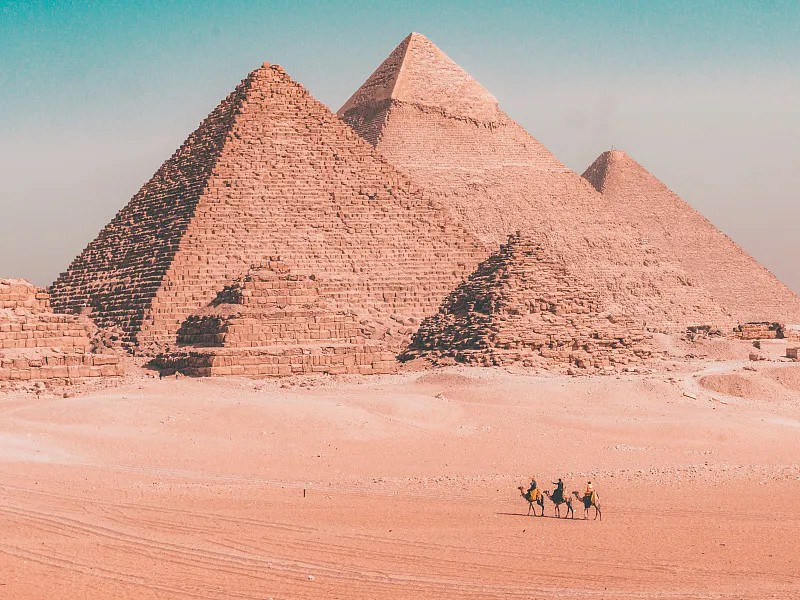Pyramid: (45, 65, 493, 360), (337, 32, 750, 343), (580, 149, 800, 332), (404, 228, 675, 371), (146, 262, 404, 377), (1, 279, 142, 386)
